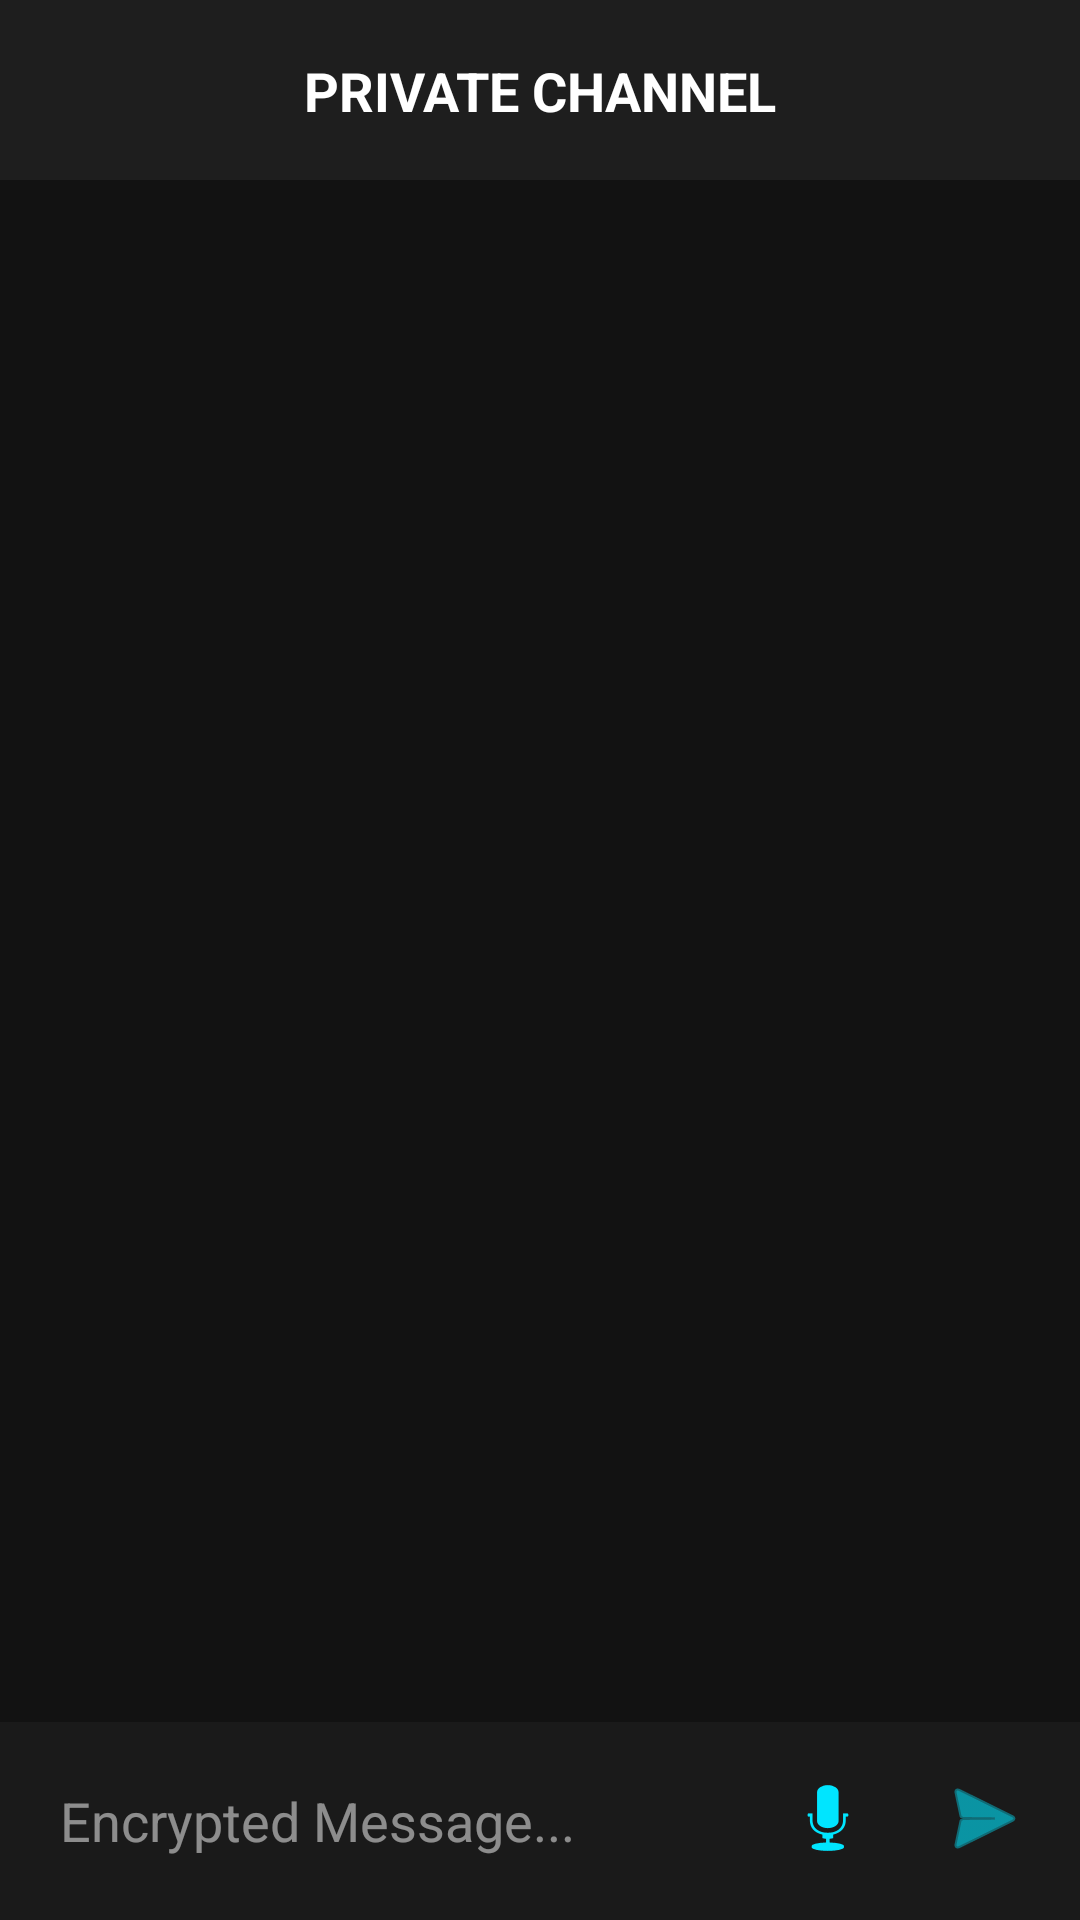

Icons on this 1080w x 1920h Android screen, each with the point to tap as (x,y):
send: (985,1818)
speak now: (828,1818)
